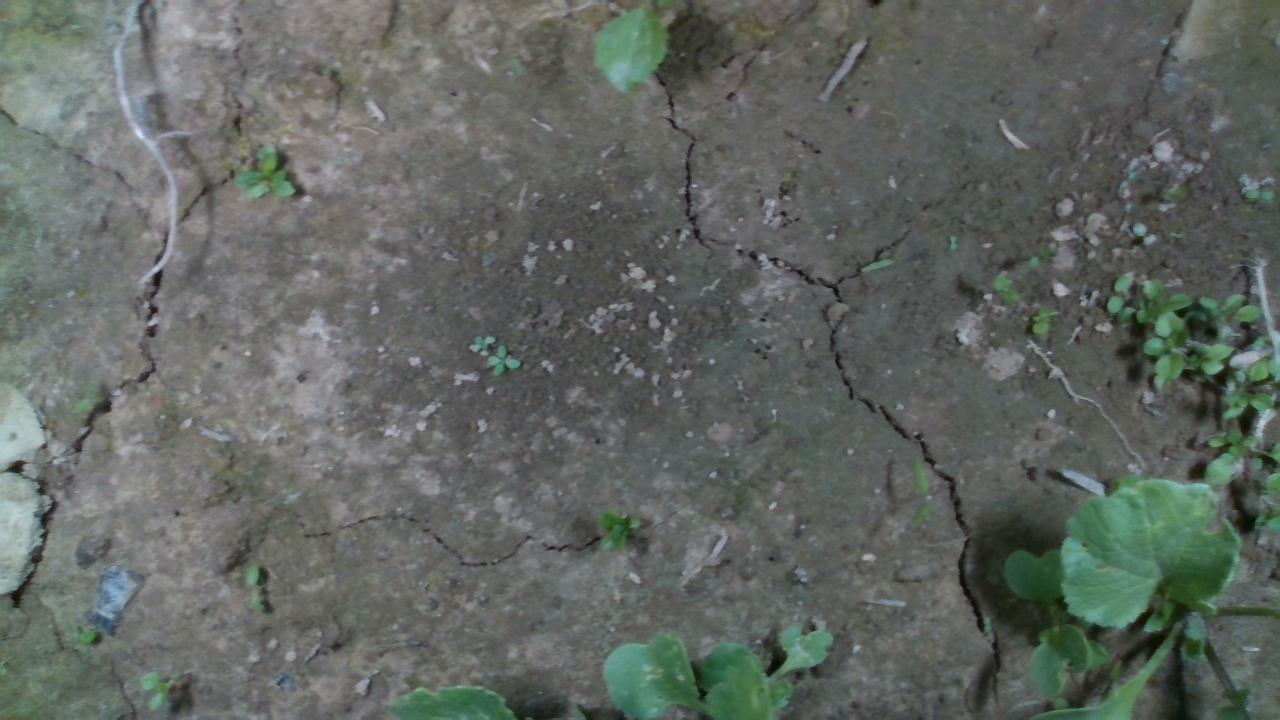weed: (906, 455, 930, 530), (241, 560, 265, 615), (1028, 304, 1059, 334), (1241, 186, 1275, 203)
